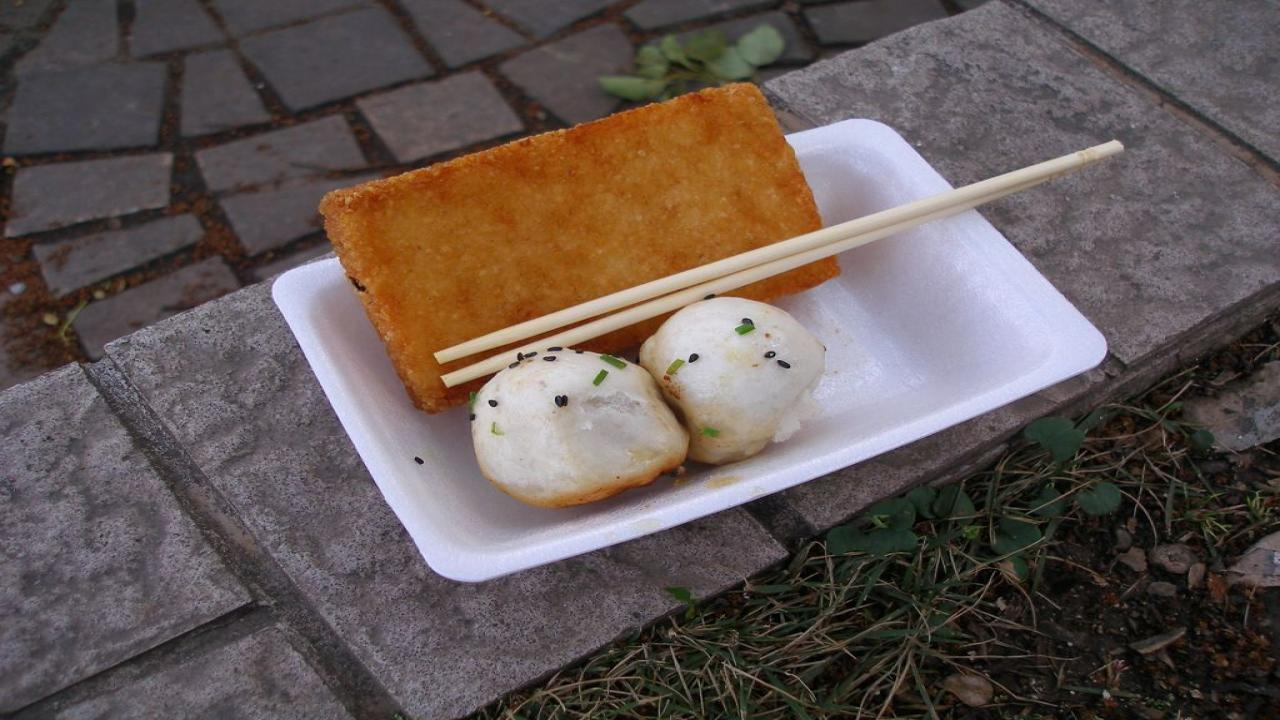chopstick: (435, 143, 1125, 386)
